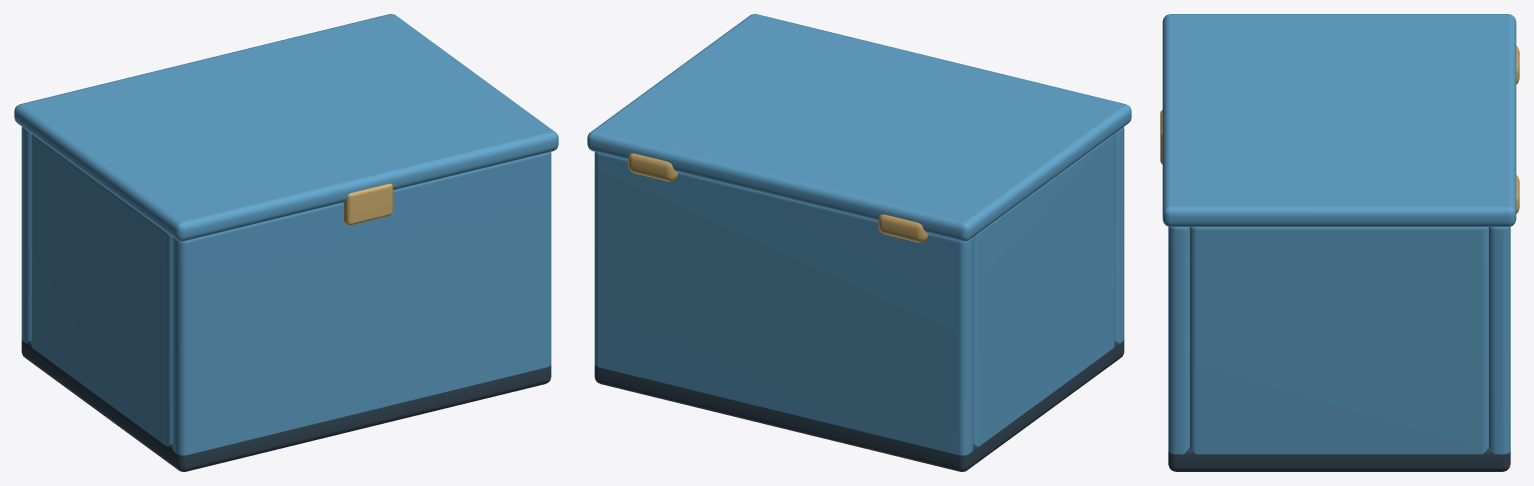
Rendered from variable-box.glb.
3 views of the same model, side by side, from view 1: azimuth 30°, elevation 25°; view 2: azimuth 150°, elevation 25°; view 3: azimuth 270°, elevation 25° (orthographic). The views are drawn at different scales.
Visible parts, largest first — view 1: Front_Wall, Lid_Solid, Left_Wall, Floor, Back_Wall, Latch; view 2: Back_Wall, Lid_Solid, Left_Wall, Floor, Front_Wall, Hinge_Barrel, Hinge_Barrel.001; view 3: Lid_Solid, Right_Wall, Floor, Back_Wall, Front_Wall.
Part boxes in pixels (x1=…): Front_Wall: x1=172, y1=152, x2=551, y2=455; Lid_Solid: x1=14, y1=14, x2=558, y2=241; Left_Wall: x1=31, y1=134, x2=172, y2=446; Floor: x1=21, y1=340, x2=551, y2=471; Back_Wall: x1=21, y1=127, x2=31, y2=343; Latch: x1=343, y1=183, x2=392, y2=225; Back_Wall: x1=594, y1=152, x2=973, y2=455; Lid_Solid: x1=587, y1=14, x2=1131, y2=241; Left_Wall: x1=973, y1=134, x2=1114, y2=446; Floor: x1=594, y1=340, x2=1124, y2=471; Front_Wall: x1=1114, y1=127, x2=1124, y2=343; Hinge_Barrel: x1=878, y1=214, x2=928, y2=242; Hinge_Barrel.001: x1=628, y1=153, x2=677, y2=181; Lid_Solid: x1=1162, y1=14, x2=1516, y2=226; Right_Wall: x1=1190, y1=227, x2=1488, y2=454; Floor: x1=1168, y1=447, x2=1510, y2=471; Back_Wall: x1=1489, y1=226, x2=1510, y2=454; Front_Wall: x1=1168, y1=226, x2=1189, y2=454.
Bounding box in the file's own units: 2.05 × 1.3 × 1.58.
